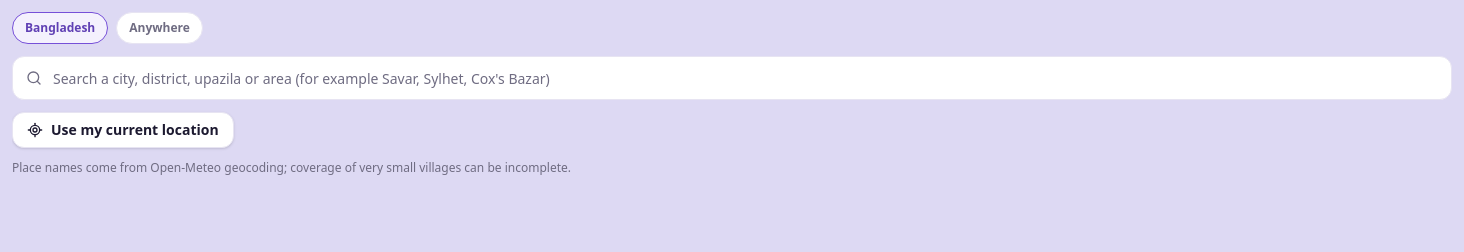
location search › shows an error with a retry when the provider is down (status)
The image size is (1464, 252).
Type "Dhaka" into the dropdown.
click(732, 78); type("Dhaka")  # box [12,56,1452,100]
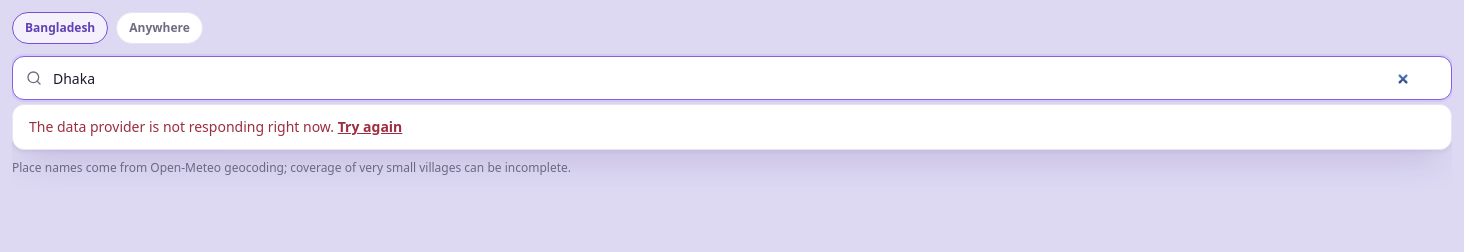
Now the message shows "not responding", box [29,117,334,136]
Click the button "Try again".
click(370, 127)  # box [338,117,402,137]
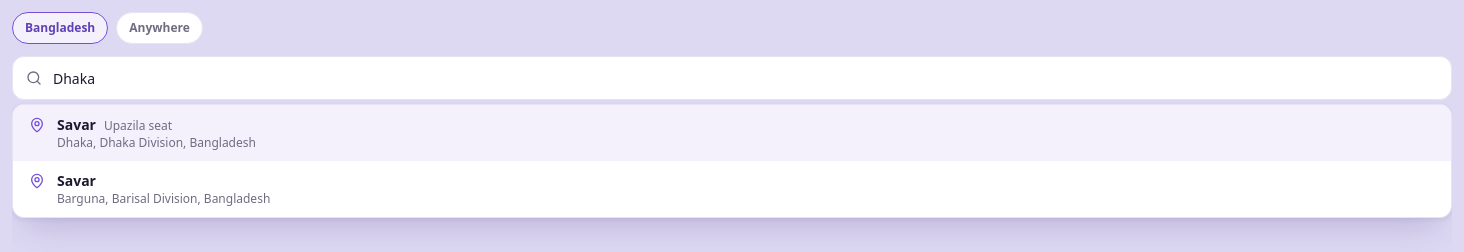
Now the number of options is 2, box [13,105,1451,161]; [29,171,270,207]
